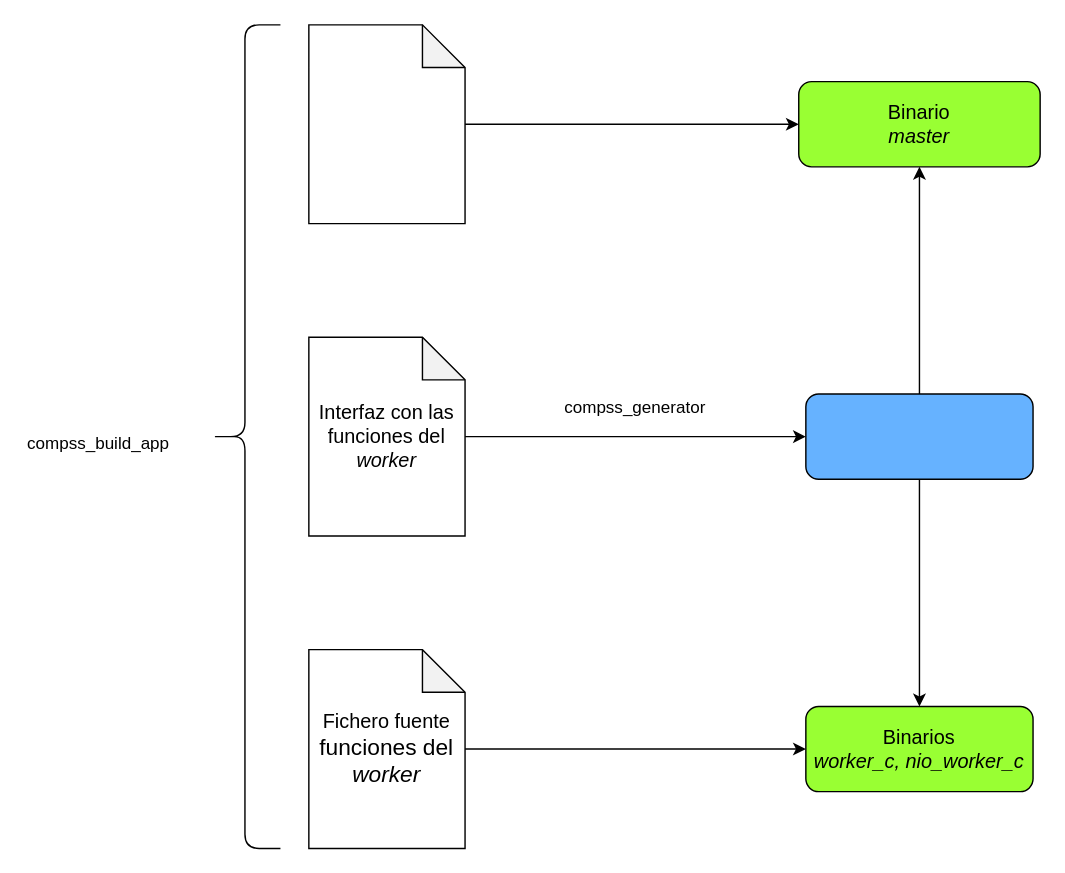
The diagram is 1065 pixels wide and 873 high, and some of its shapes have lost their labels. The box of each missing label's shape, as (x1, y1, x2, y2) in pixels:
Fichero fuente master: (307, 23, 465, 224)
Ficheros intermedios: (804, 393, 1033, 479)
